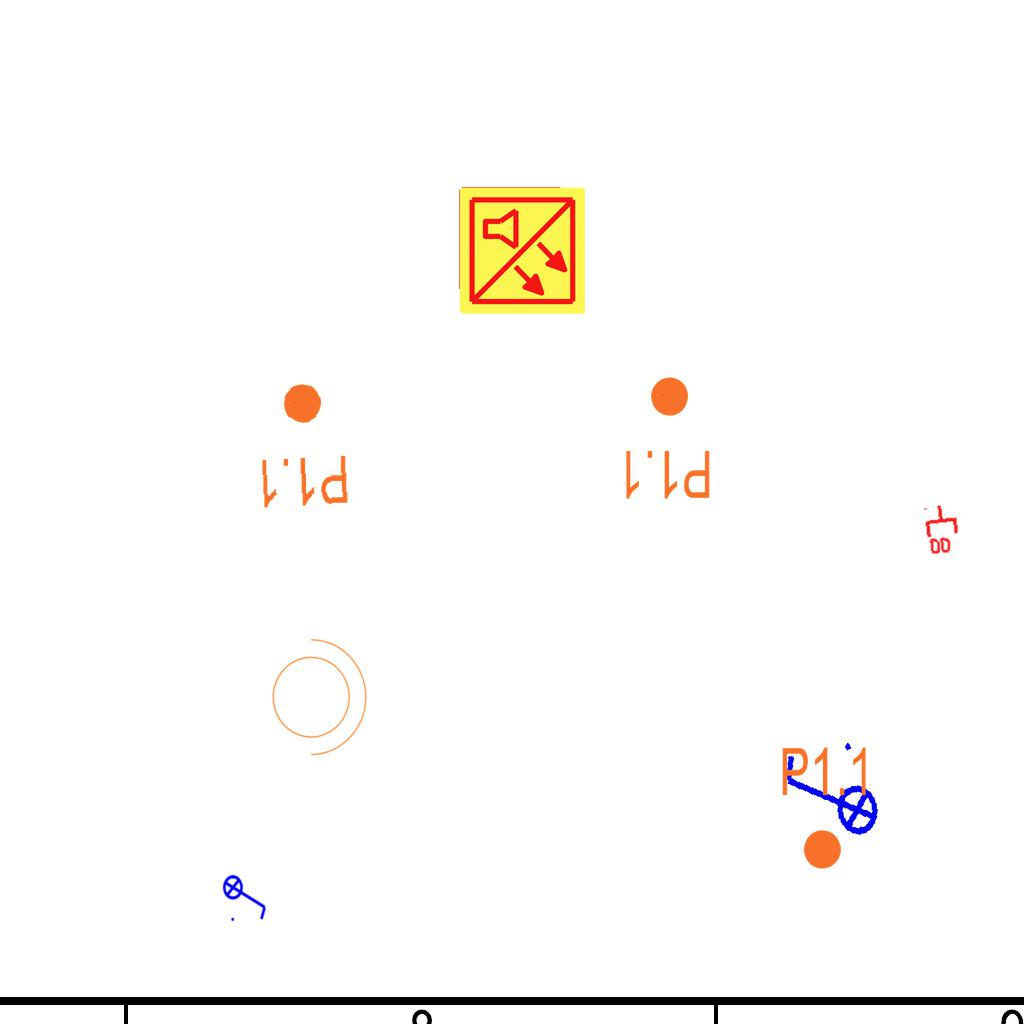Ausschalter_beleuchtet: (772, 734, 886, 860), (222, 868, 270, 924)
Datenanschluss_zweifach: (923, 502, 963, 557)
Downlight_LED_Einbauleuchten_Flur: (251, 378, 352, 512), (620, 374, 713, 502), (779, 744, 872, 872)
OKW_Multisensormelder_(Kombination_optischer_Rauch-Kahlenmonoxid_Waerme-Melder): (456, 185, 588, 317)
Scheinwerfer_fuer_Alarmbeleuchtung: (260, 628, 372, 760)
